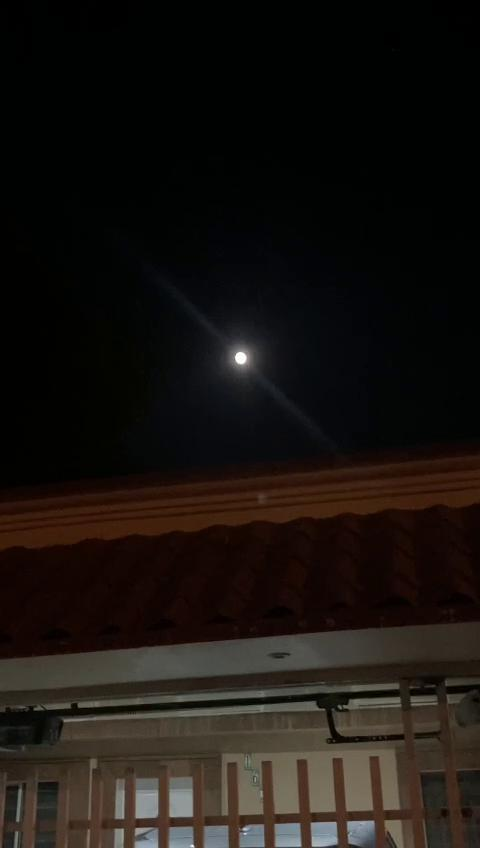moon: (230, 338, 248, 356)
